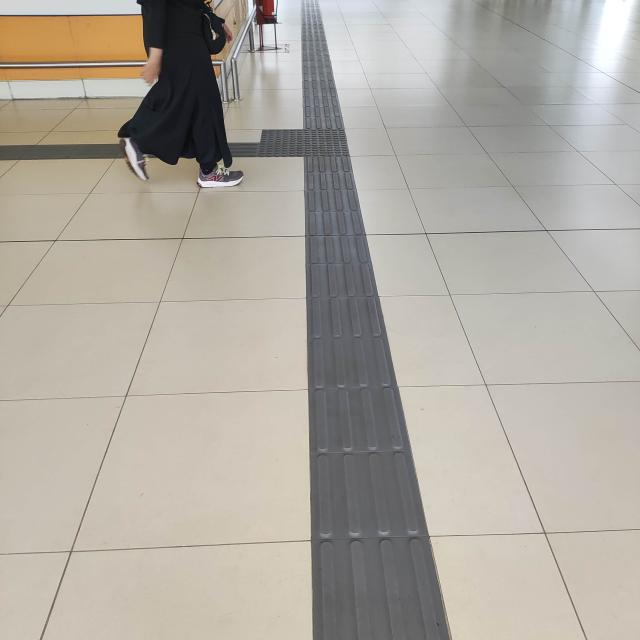lurus: (291, 148, 415, 640), (297, 4, 341, 141)
